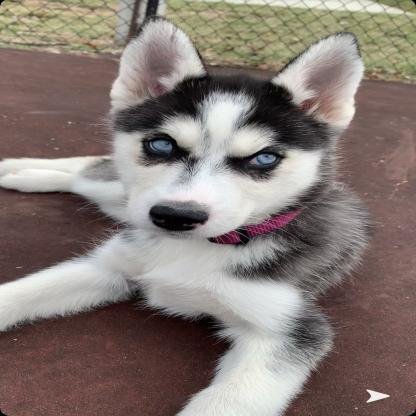husky: (1, 23, 379, 416)
